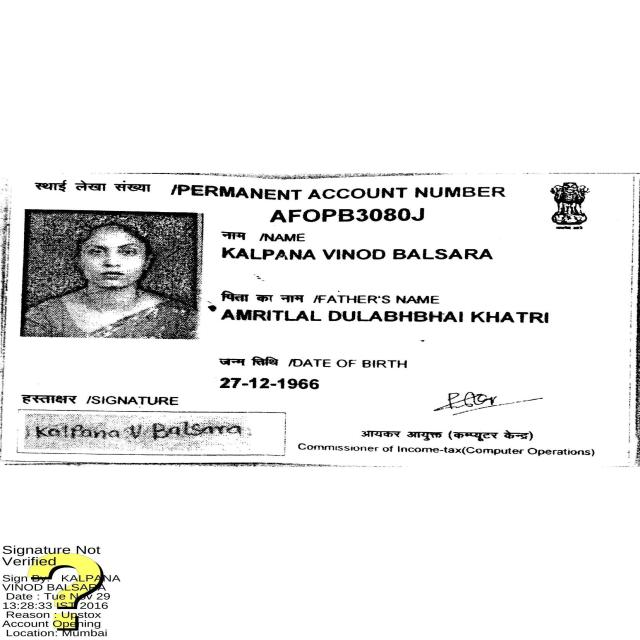pan_card: (17, 168, 636, 462)
